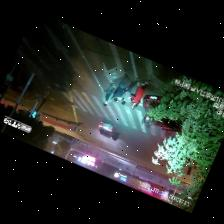person: (122, 78, 139, 104), (131, 81, 148, 106), (114, 72, 128, 100), (103, 80, 116, 105)
